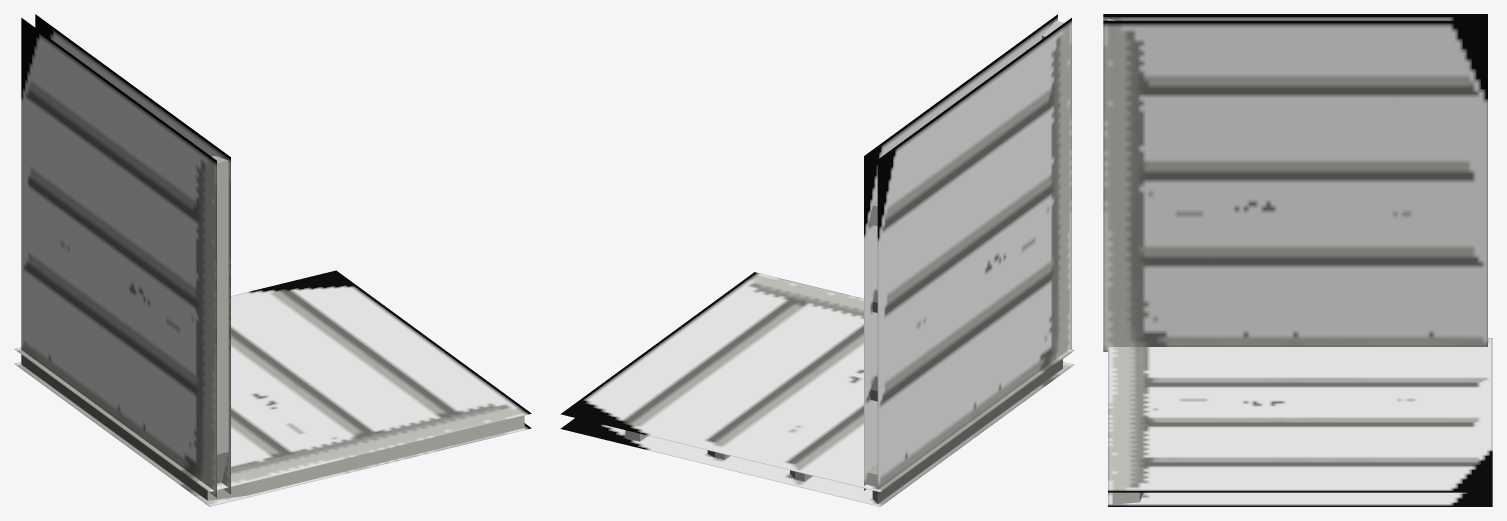
The model's file is pz_native_fixtures_railings_01_110_frame.obj.
The picture shows the model from 3 angles, left to right: view 1: azimuth 30°, elevation 25°; view 2: azimuth 150°, elevation 25°; view 3: azimuth 270°, elevation 25°; orthographic projection.
Parts seen in each view (by area): view 1: pz_native_fixtures_railings_01_110_frame; view 2: pz_native_fixtures_railings_01_110_frame; view 3: pz_native_fixtures_railings_01_110_frame.
Boxes of the visible parts, x1,y1,x2,y2 form: pz_native_fixtures_railings_01_110_frame: (14,14,531,506); pz_native_fixtures_railings_01_110_frame: (560,14,1074,506); pz_native_fixtures_railings_01_110_frame: (1103,14,1492,506).
Size of the model in its own units: 1.03 by 1.06 by 1.1.
Materials: 1 (1 with a texture image).
